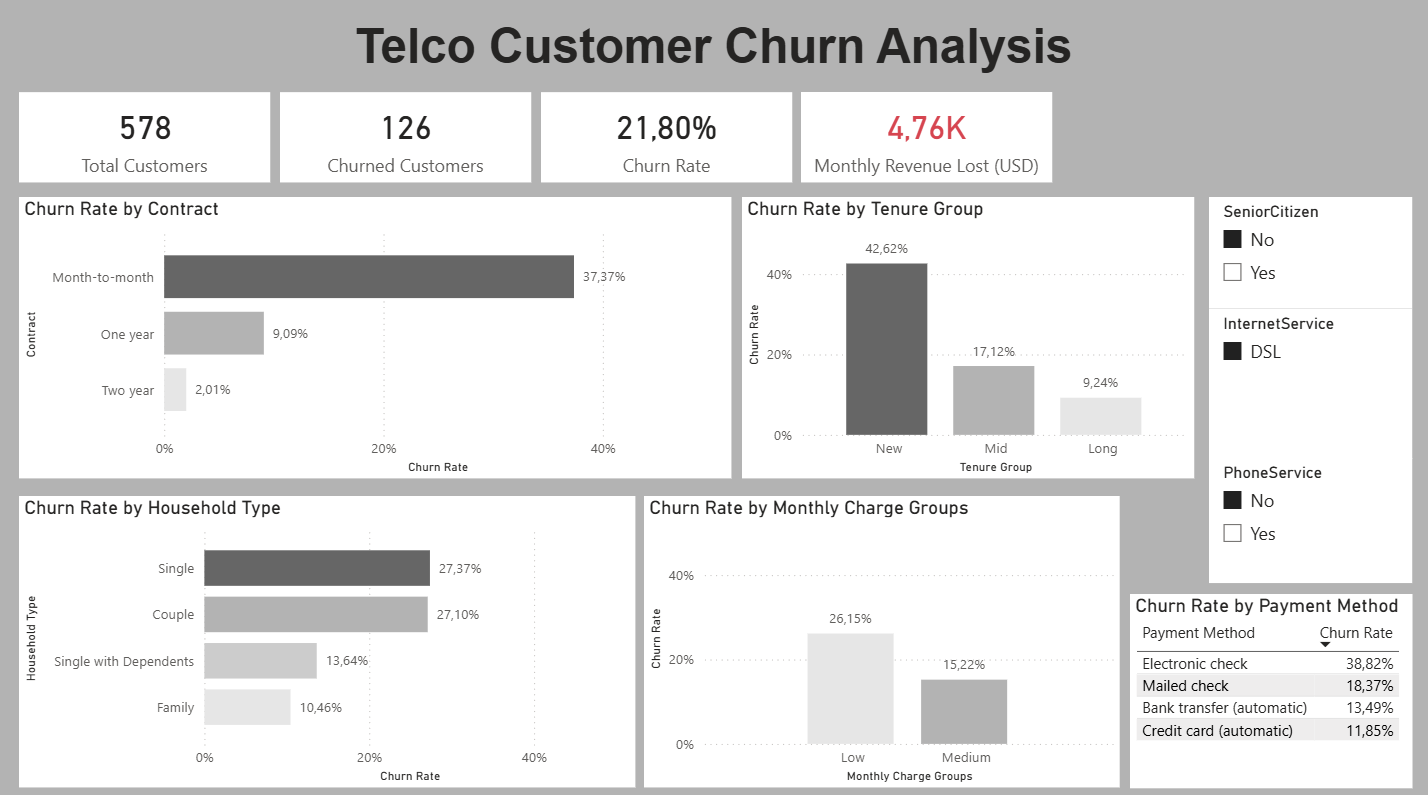

Layout of this report page (visuals, bound fields, positions):
{"tool":"powerbi","page":{"name":"Page 1","canvas":[1280,720],"ordinal":0},"visuals":[{"type":"card","title":"Total Customers","fields":{"Values":["Count(telco_churn customers.customerID)"]},"box":[17.9,86.9,224.8,81.5],"z":1000},{"type":"card","title":"Churned Customers","fields":{"Values":["telco_churn customers.Churned Customers"]},"box":[251.6,86.9,224.8,81.5],"z":2000},{"type":"card","title":"Churn Rate","fields":{"Values":["telco_churn customers.Churn Rate"]},"box":[485.4,86.9,224.8,81.5],"z":3000},{"type":"clusteredBarChart","fields":{"Category":["telco_churn customers.Contract"],"Y":["telco_churn customers.Churn Rate"]},"box":[18,181,638,252],"z":4000},{"type":"clusteredColumnChart","fields":{"Category":["telco_churn customers.Tenure Group"],"Y":["telco_churn customers.Churn Rate"]},"box":[665,181,405,252],"z":5000},{"type":"textbox","box":[0,0,1279.7,86.9],"z":6000},{"type":"card","title":"Monthly Revenue Lost","fields":{"Values":["telco_churn customers.Monthly Revenue Lost"]},"box":[718.2,86.9,224.8,81.5],"z":7000},{"type":"slicer","fields":{"Values":["telco_churn customers.InternetService"]},"box":[1084,281,182,134],"z":8000},{"type":"slicer","fields":{"Values":["telco_churn customers.SeniorCitizen"]},"box":[1084,181,182,100],"z":10000},{"type":"barChart","fields":{"Category":["telco_churn customers.Household Type"],"Y":["telco_churn customers.Churn Rate"]},"box":[18,449,552,261],"z":11000},{"type":"clusteredColumnChart","fields":{"Category":["telco_churn customers.MonthlyCharge_Groups"],"Y":["telco_churn customers.Churn Rate"]},"box":[578,449,426,261],"z":12000},{"type":"tableEx","title":"Churn Rate by Payment Method","fields":{"Values":["telco_churn customers.PaymentMethod","telco_churn customers.Churn Rate"]},"box":[1013,536,253,174],"z":12001},{"type":"slicer","fields":{"Values":["telco_churn customers.PhoneService"]},"box":[1084,415,182,112],"z":12002}]}

Visuals, with their boxes in screenshot pixels (x1, y1, x2, y2), scaled from the page's 1280x720 canvas onto the 1428x795 screenshot:
"Total Customers" card: rect(20, 96, 271, 186)
"Churned Customers" card: rect(281, 96, 531, 186)
"Churn Rate" card: rect(542, 96, 792, 186)
clusteredBarChart - telco_churn customers.Contract x telco_churn customers.Churn Rate: rect(20, 200, 732, 478)
clusteredColumnChart - telco_churn customers.Tenure Group x telco_churn customers.Churn Rate: rect(742, 200, 1194, 478)
textbox: rect(0, 0, 1427, 96)
"Monthly Revenue Lost" card: rect(801, 96, 1052, 186)
slicer - telco_churn customers.InternetService: rect(1209, 310, 1412, 458)
slicer - telco_churn customers.SeniorCitizen: rect(1209, 200, 1412, 310)
barChart - telco_churn customers.Household Type x telco_churn customers.Churn Rate: rect(20, 496, 636, 784)
clusteredColumnChart - telco_churn customers.MonthlyCharge_Groups x telco_churn customers.Churn Rate: rect(645, 496, 1120, 784)
"Churn Rate by Payment Method" tableEx: rect(1130, 592, 1412, 784)
slicer - telco_churn customers.PhoneService: rect(1209, 458, 1412, 582)
